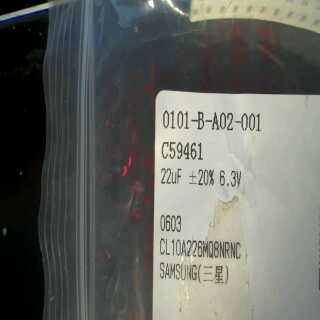22uF: (158, 165, 182, 185)
